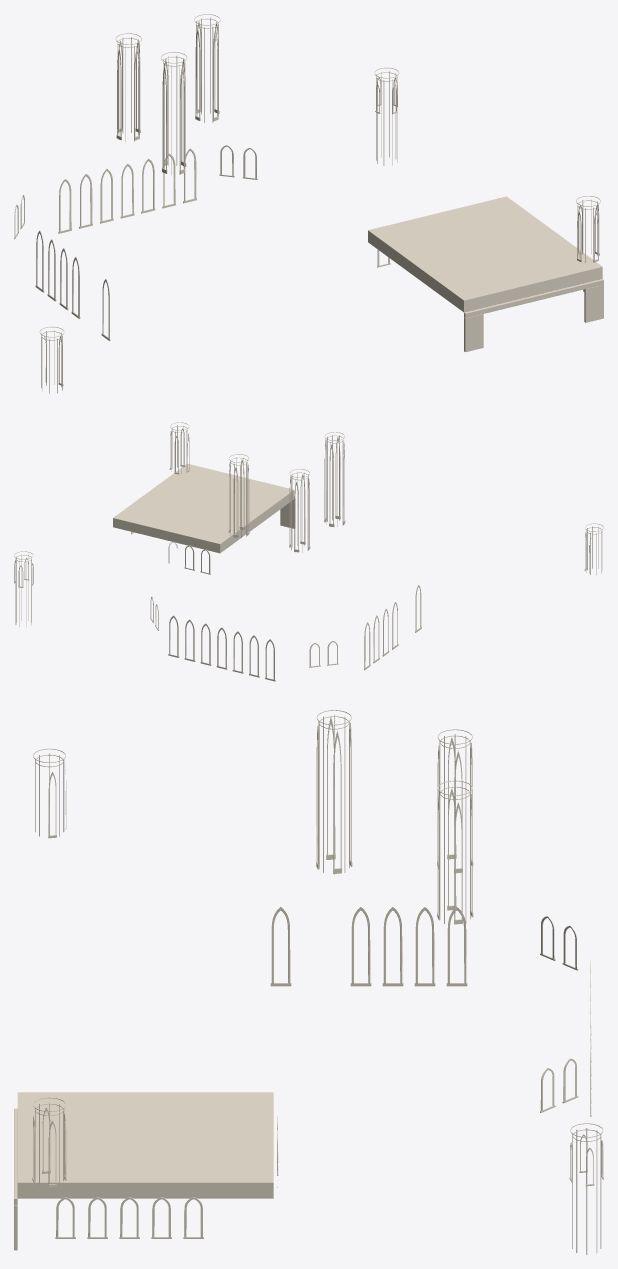
The model's file is Spaceport-03.glb.
3 renders of one model, top to bottom at view 1: azimuth 30°, elevation 25°; view 2: azimuth 150°, elevation 25°; view 3: azimuth 270°, elevation 25°, orthographic. The views are drawn at different scales.
Parts seen in each view (by area): view 1: NSP01.Native.3.0.Ivory, NSP01.Native.3.1.Ivory; view 2: NSP01.Native.3.0.Ivory, NSP01.Native.3.1.Ivory; view 3: NSP01.Native.3.0.Ivory, NSP01.Native.3.1.Ivory.
Part boxes in pixels (<box>): NSP01.Native.3.0.Ivory: <box>14,145,603,351</box>; NSP01.Native.3.1.Ivory: <box>39,14,600,393</box>; NSP01.Native.3.0.Ivory: <box>113,463,421,681</box>; NSP01.Native.3.1.Ivory: <box>14,422,603,627</box>; NSP01.Native.3.0.Ivory: <box>14,907,591,1250</box>; NSP01.Native.3.1.Ivory: <box>32,710,603,1254</box>.
Size of the model in its own units: 483 by 205 by 332.
